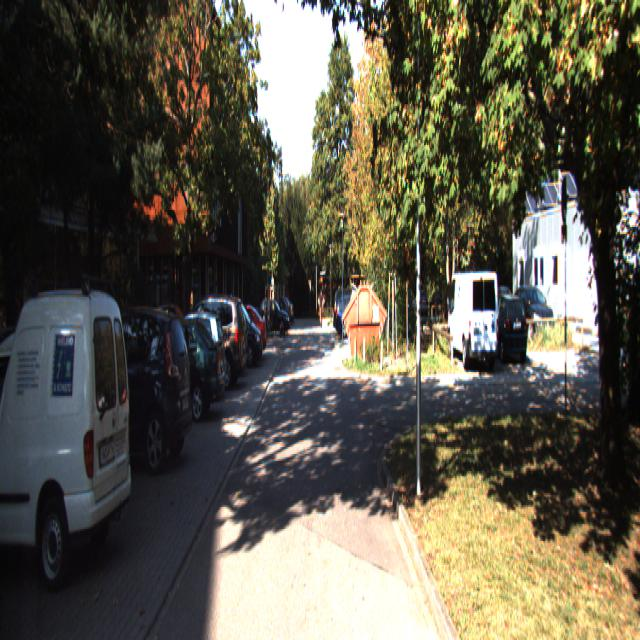Car: (0, 278, 137, 592), (53, 304, 196, 481), (128, 315, 226, 426), (165, 294, 248, 395), (156, 309, 228, 404), (446, 267, 500, 373), (207, 297, 264, 374), (480, 292, 529, 365), (336, 292, 372, 336)
